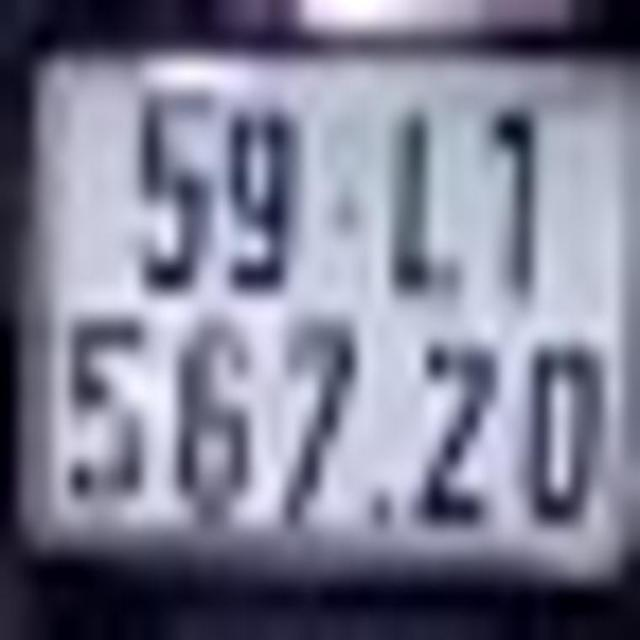0: (528, 337, 603, 521)
1: (496, 108, 542, 295)
2: (423, 338, 491, 524)
5: (138, 90, 213, 296), (75, 318, 145, 508)
6: (176, 320, 252, 516)
7: (278, 320, 356, 525)
9: (227, 108, 295, 290)
L: (396, 114, 464, 289)
